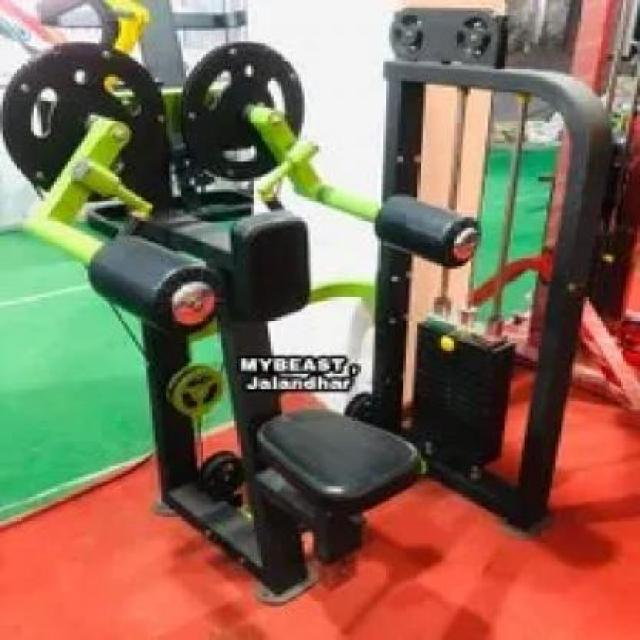lateral raises machine: (3, 4, 608, 604)
